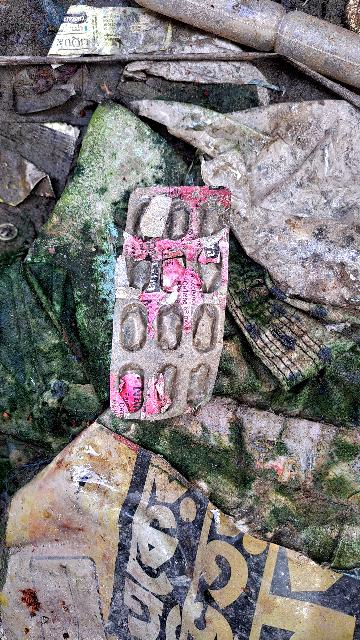medicine: (110, 186, 238, 418)
